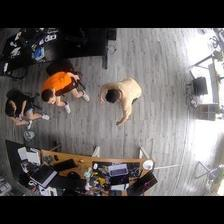normal: (40, 71, 88, 112), (101, 78, 140, 125), (5, 92, 47, 132)
